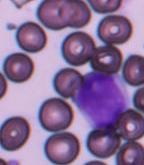L: (73, 72, 130, 130)
